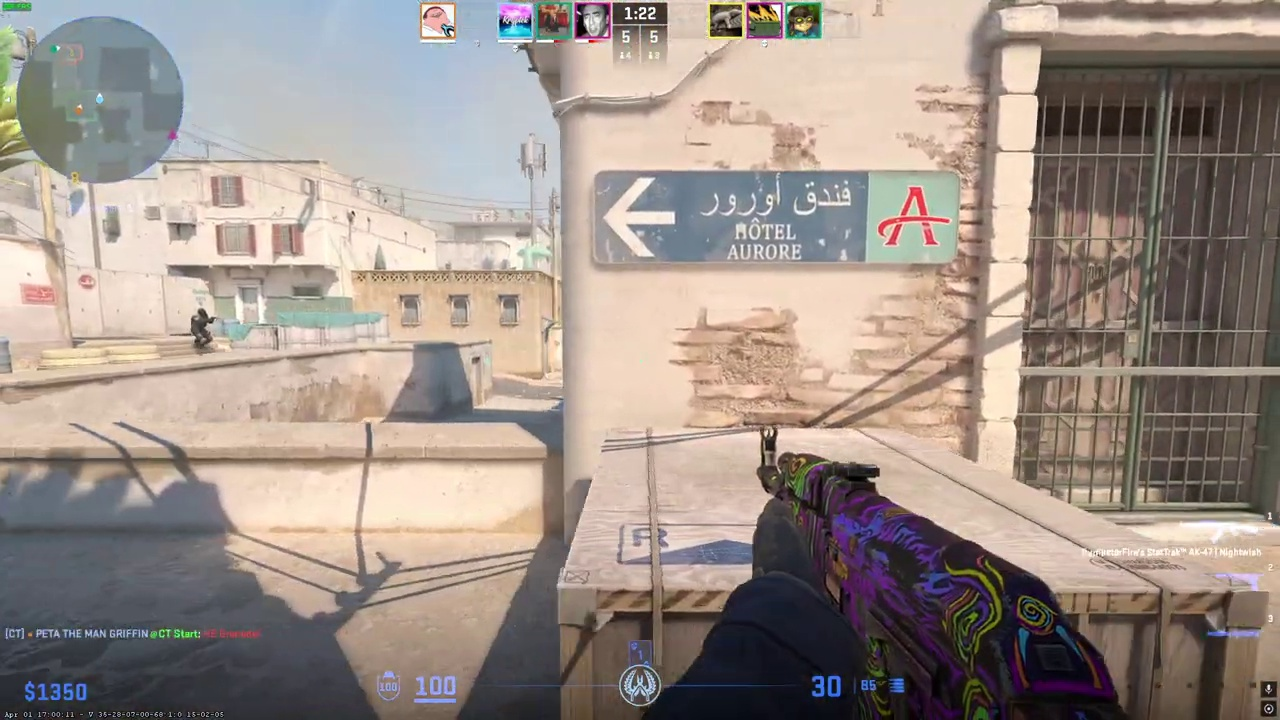CT: (191, 308, 213, 350)
